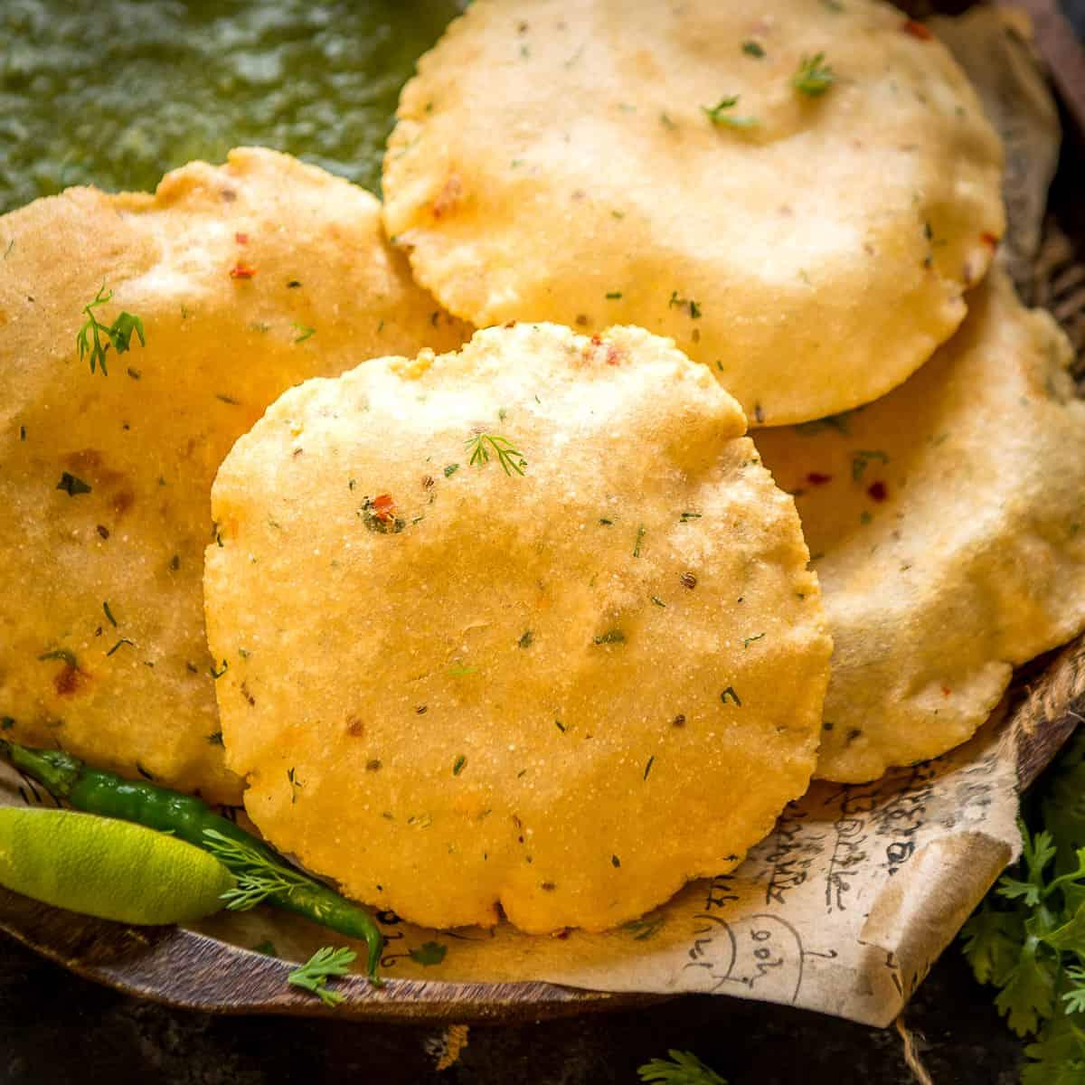puri: (6, 0, 1085, 952)
